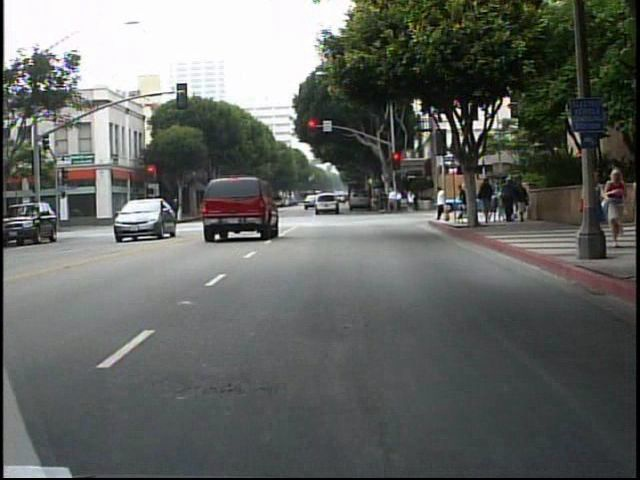person: (598, 166, 630, 246), (479, 175, 495, 225), (457, 178, 473, 222), (433, 185, 448, 222), (149, 197, 165, 227)
